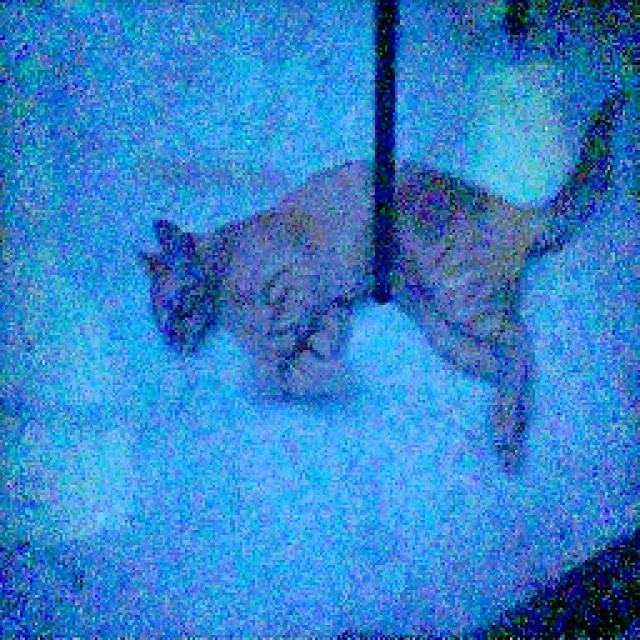cat: (134, 95, 625, 482)
